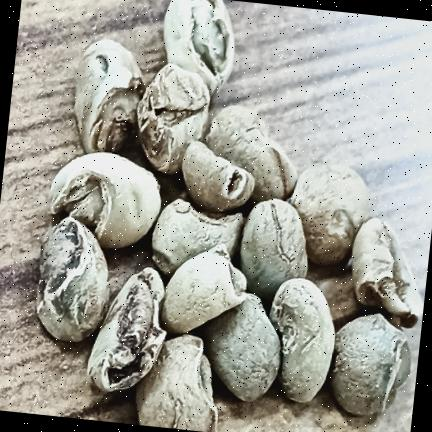cut: (50, 152, 161, 249), (87, 268, 166, 392), (37, 217, 109, 341), (206, 106, 297, 203), (203, 293, 280, 402), (269, 278, 335, 402), (331, 314, 411, 415), (74, 40, 145, 153), (136, 335, 218, 432), (138, 64, 210, 174), (352, 218, 424, 328), (291, 165, 370, 265), (161, 244, 247, 334), (152, 199, 244, 277), (240, 199, 308, 302), (164, 0, 234, 96), (182, 141, 255, 213)
